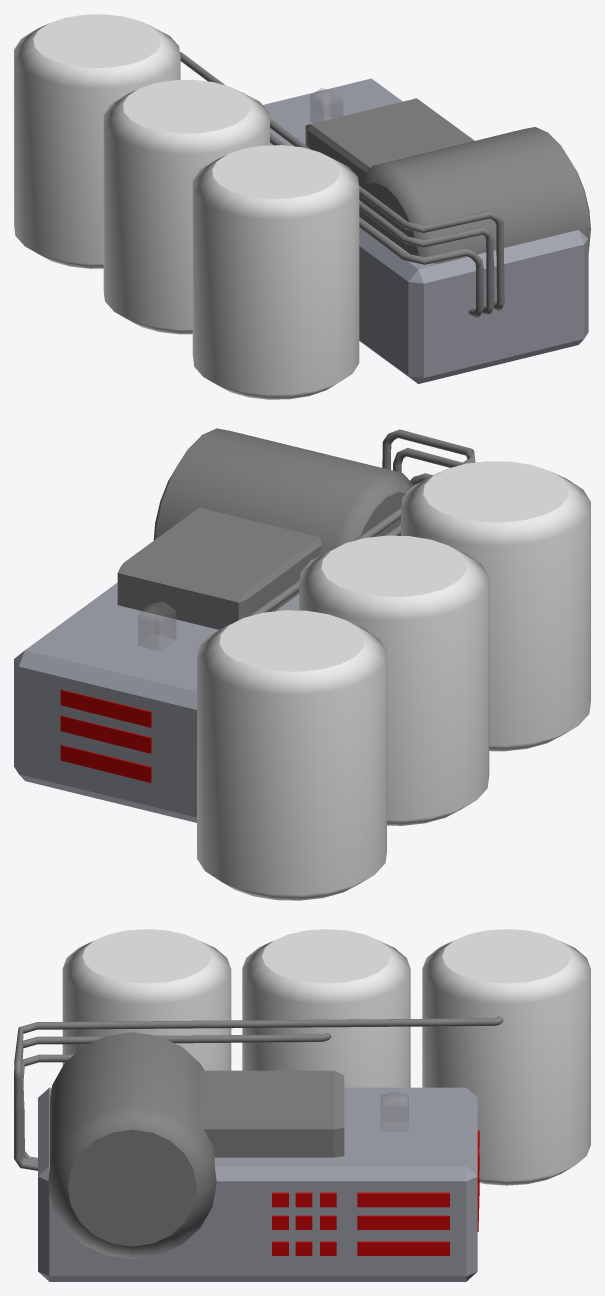
Rendered from model_generator_v2.fbx.
3 renders of one model, top to bottom at view 1: azimuth 30°, elevation 25°; view 2: azimuth 150°, elevation 25°; view 3: azimuth 270°, elevation 25°, orthographic. The views are drawn at different scales.
Parts seen in each view (by area): view 1: polySurface1; view 2: polySurface1; view 3: polySurface1.
Boxes of the visible parts, box(x1,y1,x2,y2) form: polySurface1: box(14, 14, 590, 399); polySurface1: box(14, 428, 590, 900); polySurface1: box(14, 929, 590, 1281).
Bounding box in the file's own units: 108 × 59.2 × 154.
